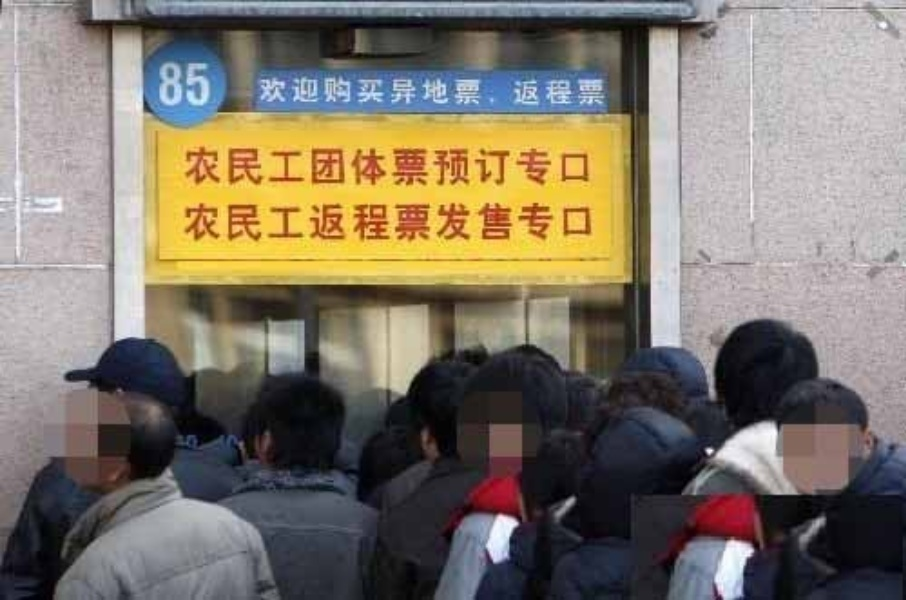text: (161, 60, 176, 107), (177, 60, 192, 107), (193, 60, 208, 107), (193, 144, 208, 187), (209, 144, 224, 187), (225, 144, 240, 187), (241, 144, 256, 187), (257, 144, 272, 187), (273, 144, 288, 187), (289, 144, 304, 187), (305, 144, 320, 187), (321, 144, 336, 187), (337, 144, 352, 187), (353, 144, 368, 187), (369, 144, 384, 187), (385, 144, 400, 187), (401, 144, 416, 187), (417, 144, 432, 187), (433, 144, 448, 187), (449, 144, 464, 187), (465, 144, 480, 187), (481, 144, 496, 187), (497, 144, 512, 187), (513, 144, 528, 187), (529, 144, 544, 187), (545, 144, 560, 187), (561, 144, 576, 187), (577, 204, 593, 243), (577, 144, 591, 187), (193, 204, 208, 243), (209, 204, 224, 243), (225, 204, 240, 243), (241, 204, 256, 243), (257, 204, 272, 243), (273, 204, 288, 243), (289, 204, 304, 243), (305, 204, 320, 243), (321, 204, 336, 243), (337, 204, 352, 243), (353, 204, 368, 243), (369, 204, 384, 243), (385, 204, 400, 243), (401, 204, 416, 243), (417, 204, 432, 243), (433, 204, 448, 243), (449, 204, 464, 243), (465, 204, 480, 243), (481, 204, 496, 243), (497, 204, 512, 243), (513, 204, 528, 243), (529, 204, 544, 243), (545, 204, 560, 243), (561, 204, 576, 243), (180, 144, 192, 187), (257, 77, 272, 107), (273, 77, 288, 107), (289, 77, 304, 107), (305, 77, 320, 107), (321, 77, 336, 107), (337, 77, 352, 107), (353, 77, 368, 107), (369, 77, 384, 107), (385, 77, 400, 107), (401, 77, 416, 107), (417, 77, 432, 107), (433, 77, 448, 107), (449, 77, 464, 107), (465, 77, 480, 107), (481, 77, 496, 107), (497, 77, 512, 107), (513, 77, 528, 107), (529, 77, 544, 107), (545, 77, 560, 107), (561, 77, 576, 107), (577, 77, 592, 107), (593, 77, 608, 107), (182, 204, 192, 243), (156, 60, 160, 107), (209, 60, 211, 107)
